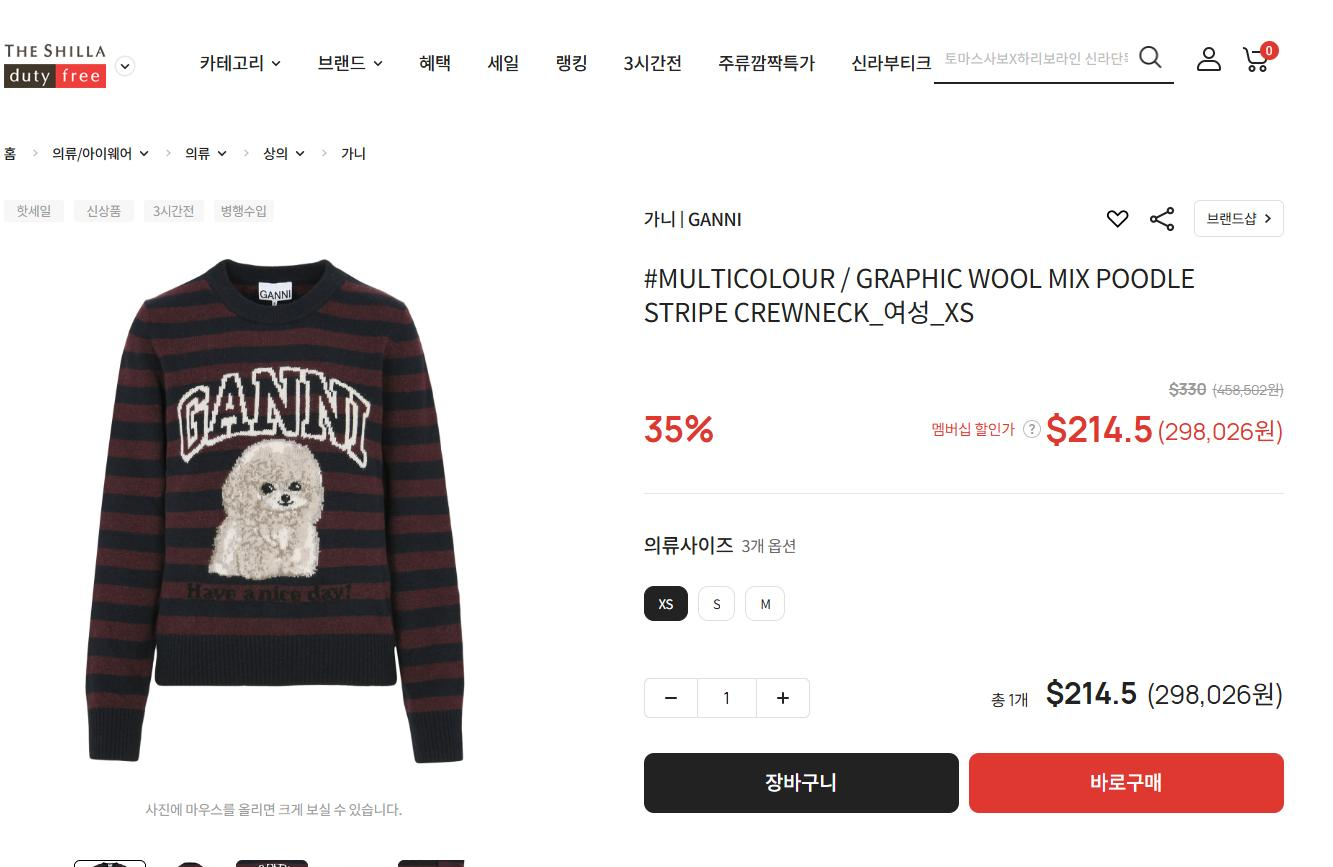button: (640, 751, 959, 821), (968, 753, 1287, 819), (639, 667, 821, 723), (715, 35, 823, 92), (1192, 193, 1288, 248), (617, 34, 698, 90), (847, 42, 933, 89), (412, 32, 467, 98), (545, 33, 603, 92), (478, 33, 530, 96), (640, 580, 693, 631), (1233, 36, 1283, 82), (1142, 194, 1186, 243), (745, 585, 792, 624), (699, 581, 738, 624), (1190, 41, 1228, 79)
checkbox: (1, 30, 141, 100), (184, 30, 293, 99), (311, 32, 391, 98)
input_field: (943, 37, 1183, 93)
